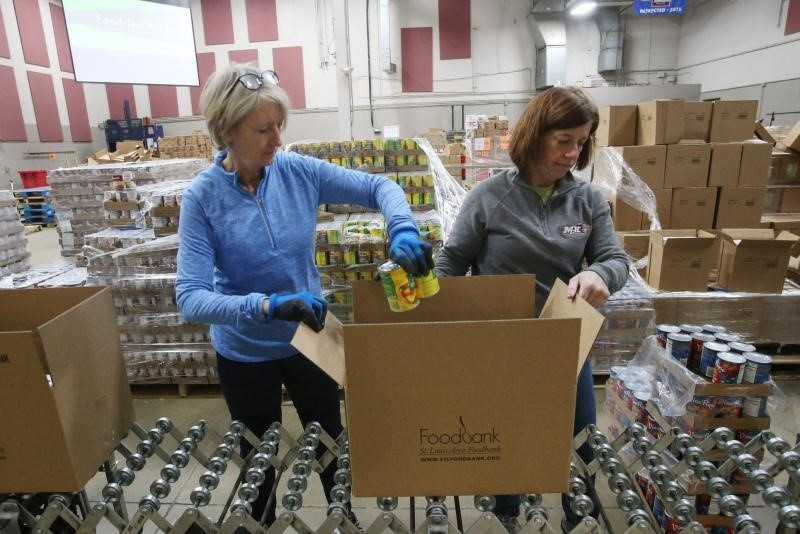face_no_mask: (507, 85, 601, 181), (203, 67, 284, 168)
